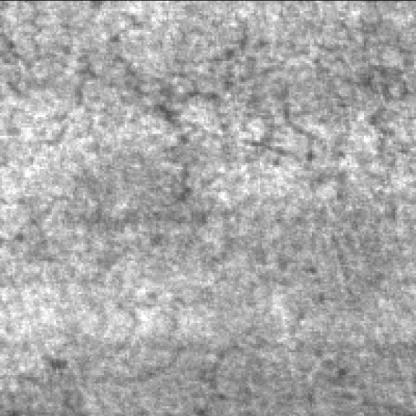crazing: (108, 6, 416, 216), (4, 0, 104, 148)
